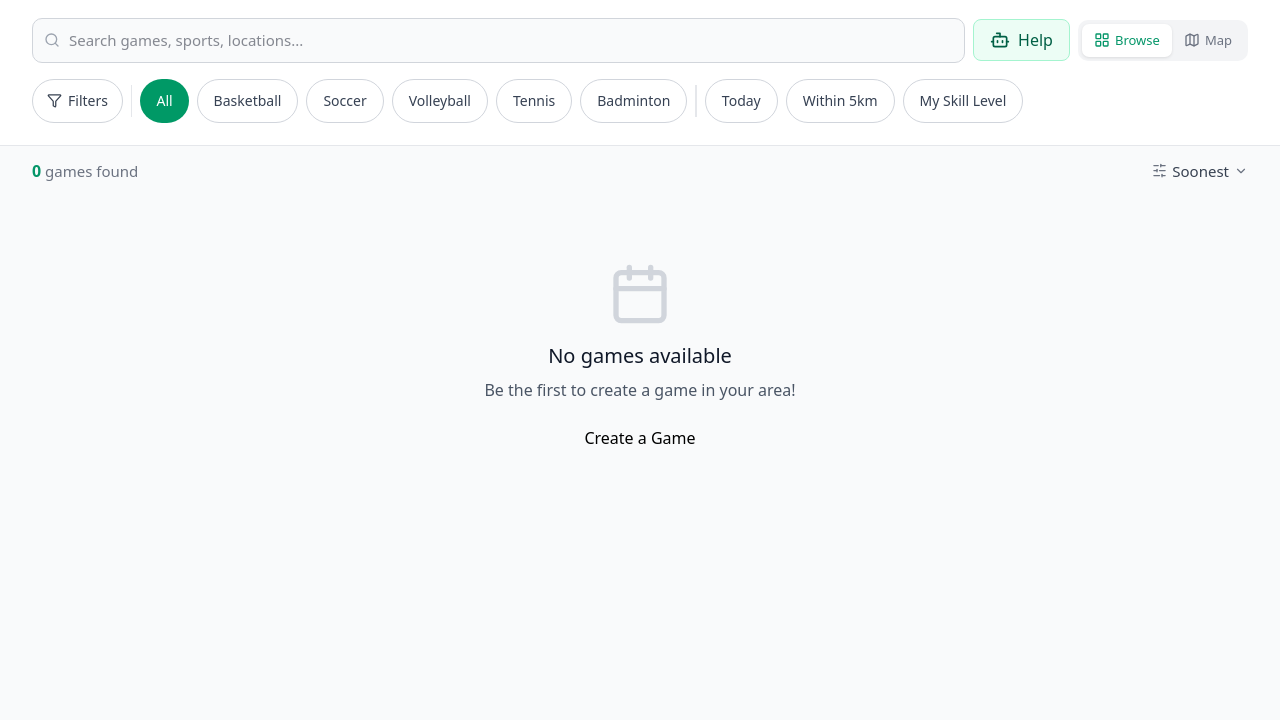
Scenario: GameDiscovery Component › Filter Toggle › should toggle filters when filter button is clicked
Click the button "Filters" at (77, 100), box x1=32 y1=78 x2=123 y2=122
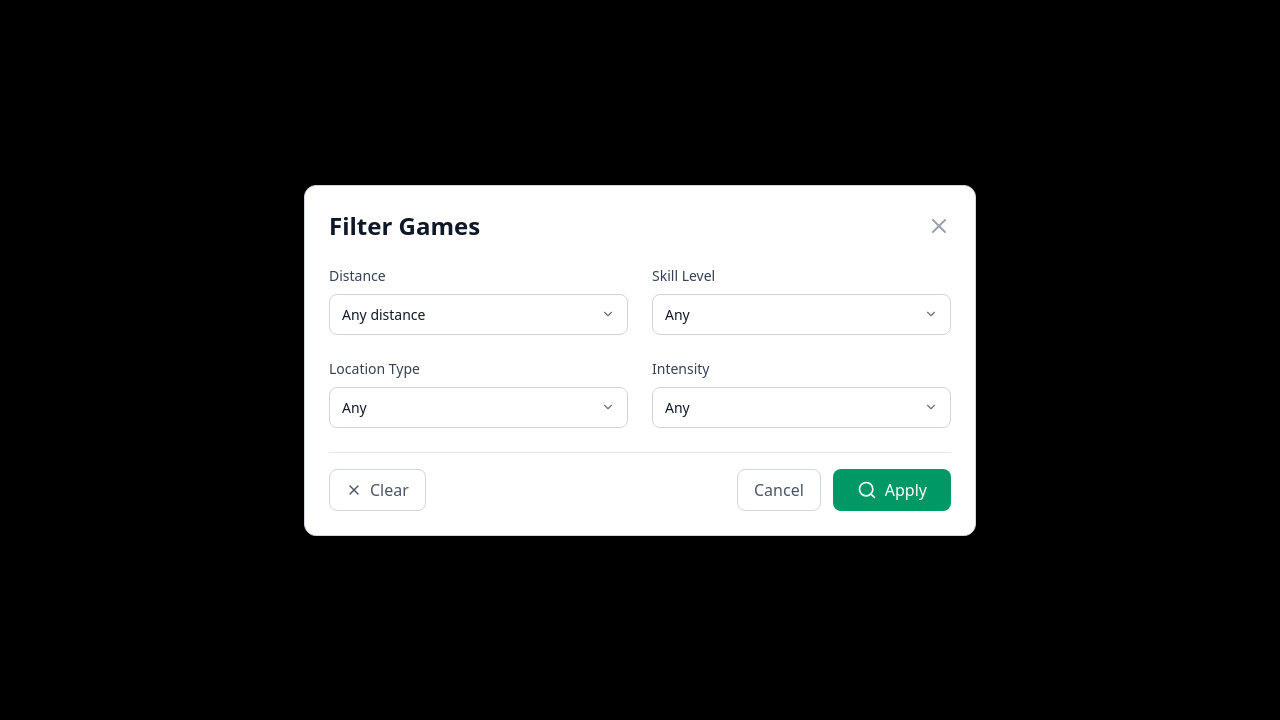
expect the text "Distance" is shown: met, box x1=329 y1=266 x2=386 y2=284
expect the text "Skill Level" is shown: met, box x1=652 y1=266 x2=715 y2=284
